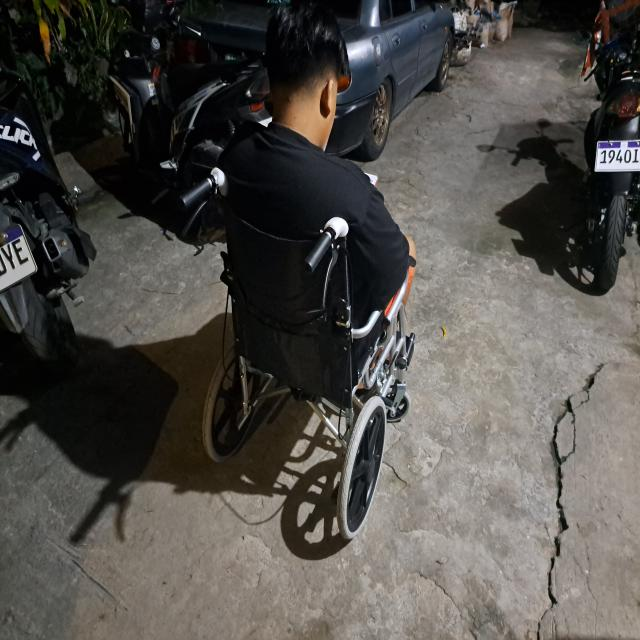wheelchairs: (174, 172, 421, 560)
